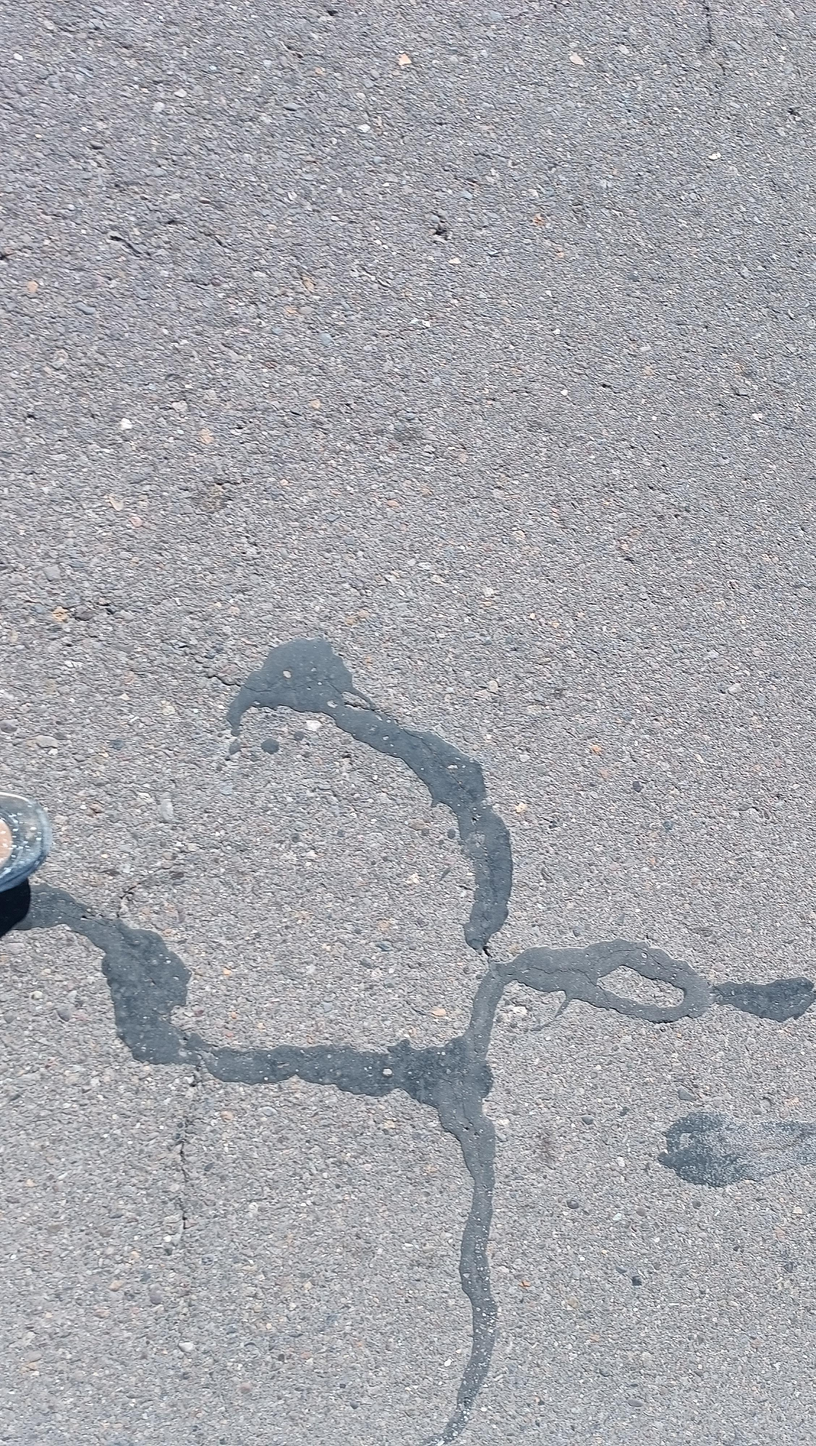PARCHE: (28, 885, 816, 1443), (229, 639, 512, 953), (658, 1111, 816, 1187)
